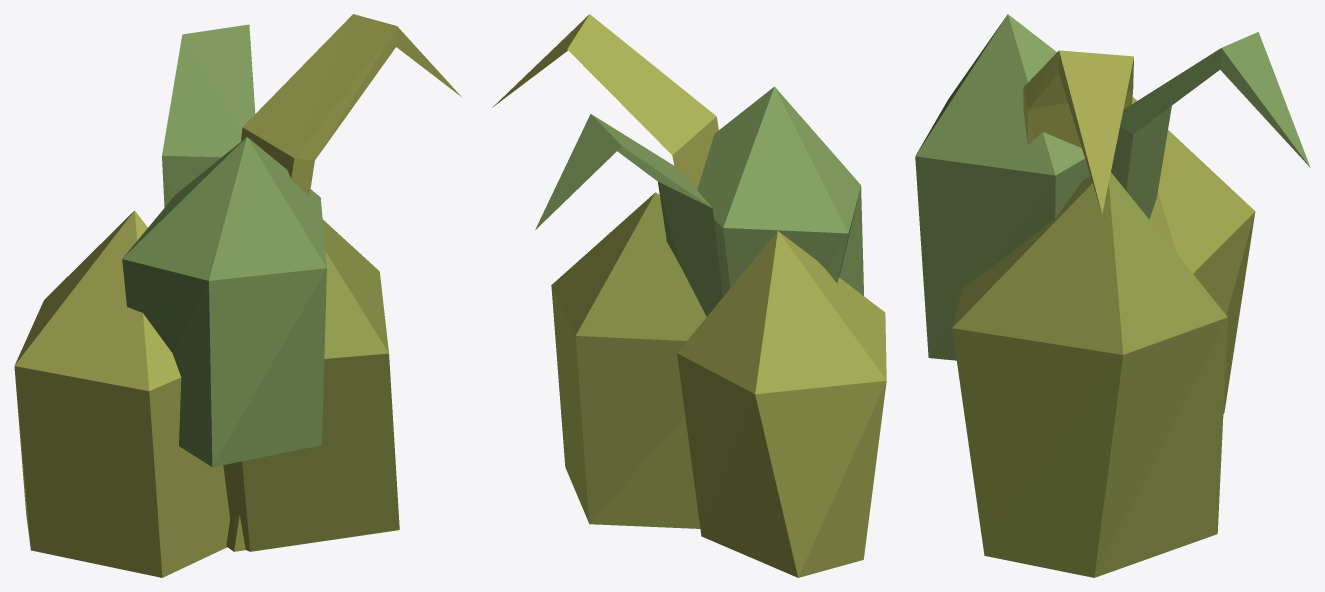
File: haygrass_2.obj
3 views of the same model, side by side, from view 1: azimuth 30°, elevation 25°; view 2: azimuth 150°, elevation 25°; view 3: azimuth 270°, elevation 25° (orthographic). The views are drawn at different scales.
Parts seen in each view (by area): view 1: haygrass_2; view 2: haygrass_2; view 3: haygrass_2.
Part boxes in pixels (x1,y1,x2,y2): haygrass_2: [14, 14, 461, 577]; haygrass_2: [492, 14, 886, 577]; haygrass_2: [915, 14, 1310, 577].
Size of the model in its own units: 0.4358 by 0.4547 by 0.3108.
